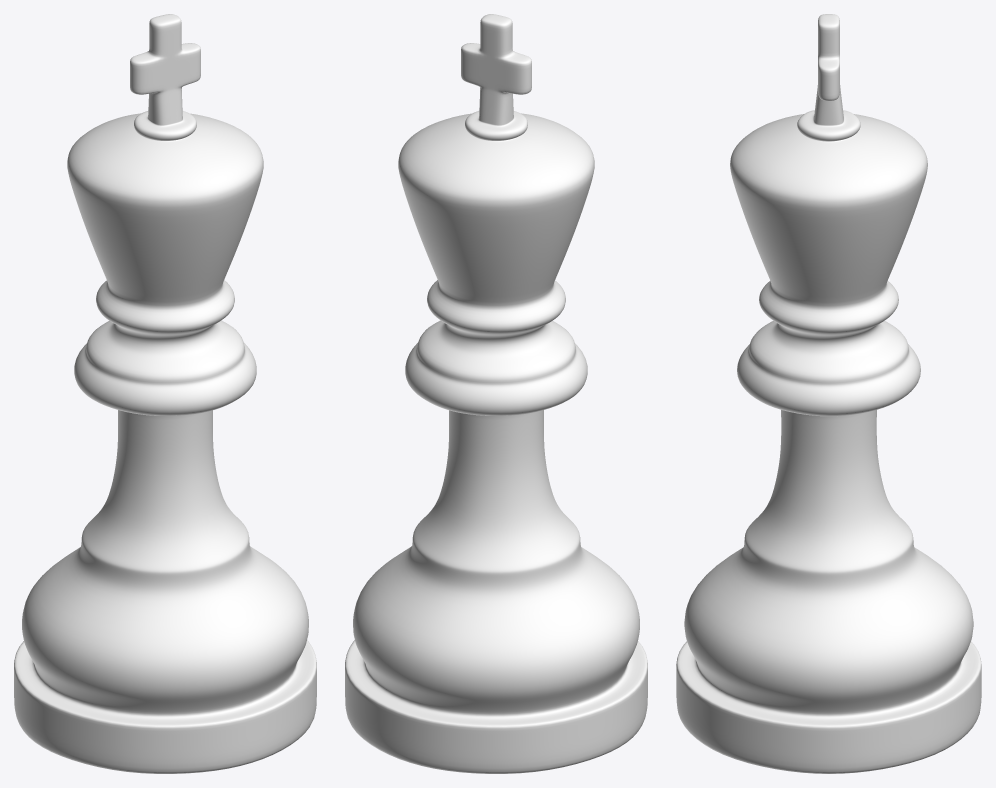
Rendered from King.obj.
3 views of the same model, side by side, from view 1: azimuth 30°, elevation 25°; view 2: azimuth 150°, elevation 25°; view 3: azimuth 270°, elevation 25° (orthographic).
Visible parts, largest first — view 1: King; view 2: King; view 3: King.
Part boxes in pixels (x1=…): King: x1=14, y1=14, x2=316, y2=773; King: x1=345, y1=14, x2=647, y2=773; King: x1=676, y1=14, x2=981, y2=773.
Bounding box in the file's own units: 0.7094 × 1.78 × 0.7094.
Materials: 1 (1 with a texture image).
